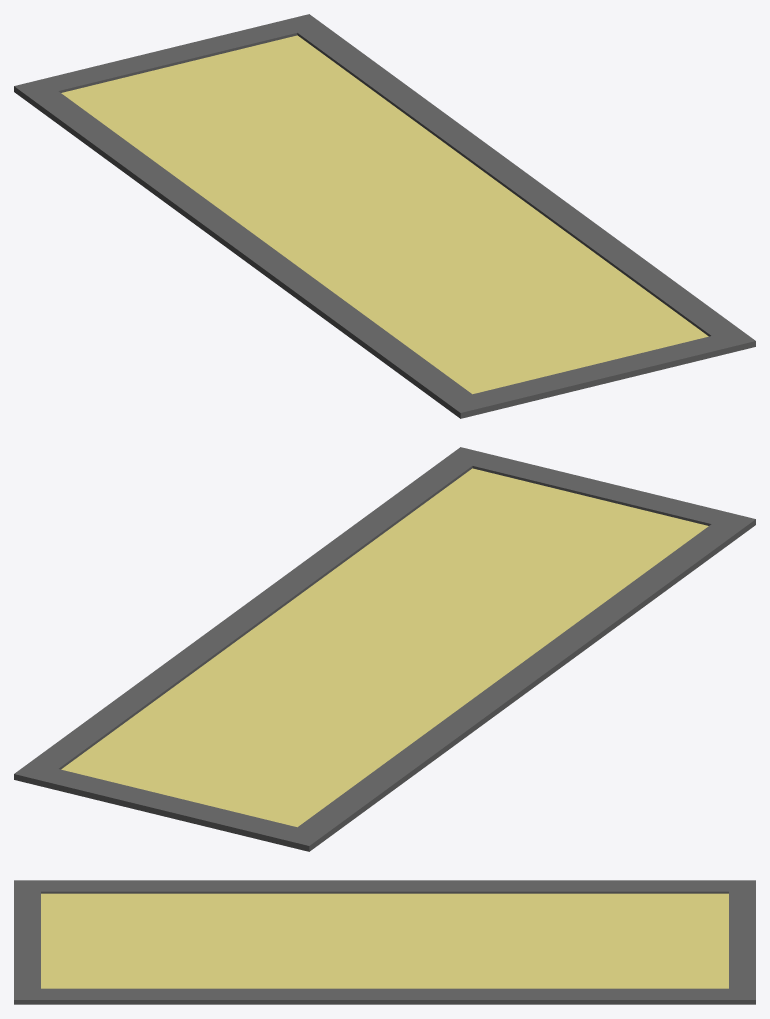
Rendered from Sand Pit.fbx.
3 renders of one model, top to bottom at view 1: azimuth 30°, elevation 25°; view 2: azimuth 150°, elevation 25°; view 3: azimuth 270°, elevation 25°, orthographic. The views are drawn at different scales.
Visible parts, largest first — view 1: Sand Pit; view 2: Sand Pit; view 3: Sand Pit.
Part boxes in pixels (x1,y1,x2,y2): Sand Pit: (14, 14, 755, 418); Sand Pit: (14, 447, 755, 851); Sand Pit: (14, 880, 755, 1004).
Bounding box in the file's own units: 2100 × 40 × 5500.
